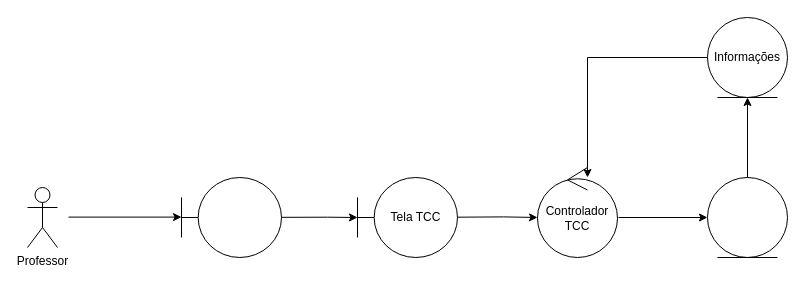
Some shapes in this 805 by 301 pixel diagram are drawn without their labels. Each missing label, with the box of its shape:
Orientandos: (706, 176, 788, 258)
Tela Orientações: (180, 176, 282, 258)
